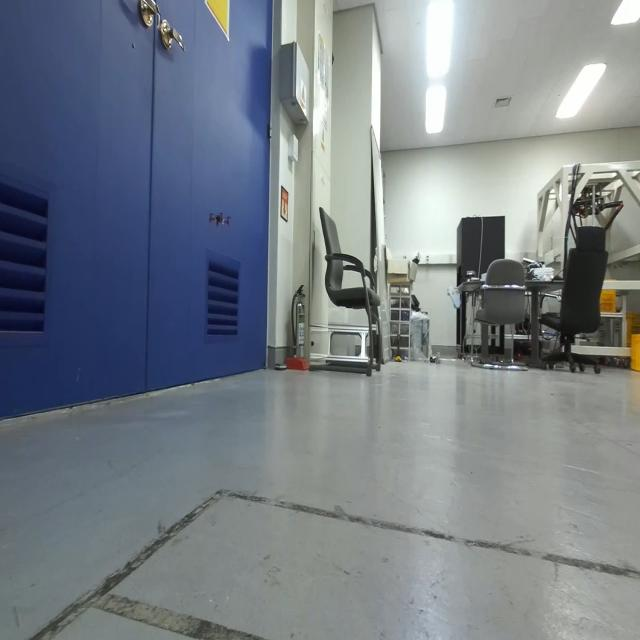crazyflie: (205, 204, 234, 236)
